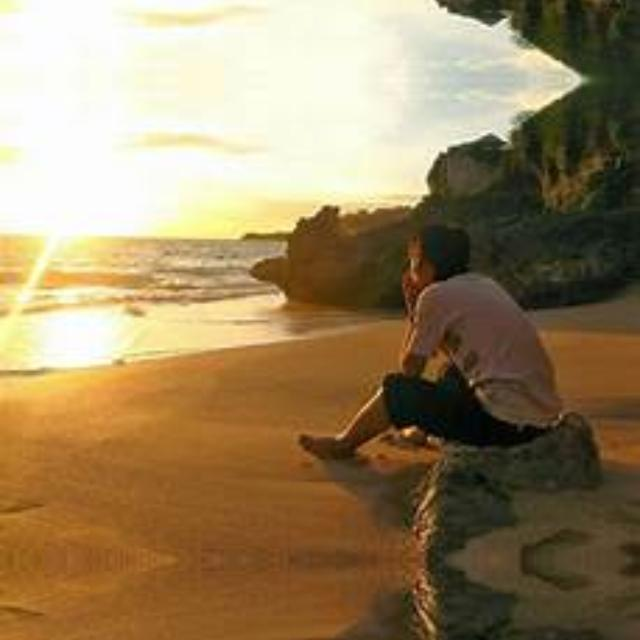person: (322, 218, 562, 464)
